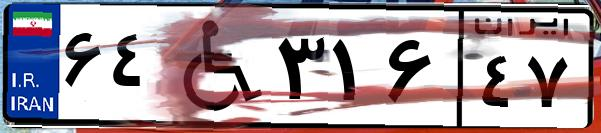1: (330, 28, 385, 110)
3: (270, 28, 330, 110)
4: (475, 38, 525, 113), (110, 28, 158, 98)
6: (385, 28, 445, 110), (57, 26, 110, 100)
7: (525, 38, 570, 115)
ژ (معلولین و جانبازان): (158, 12, 270, 120)
